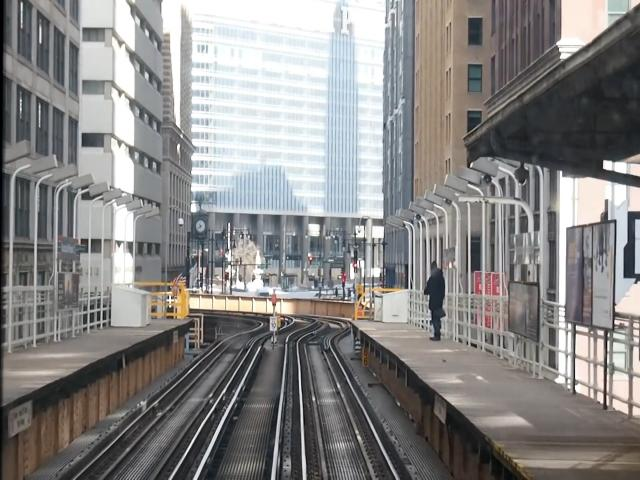signal light: (353, 250, 361, 275)
